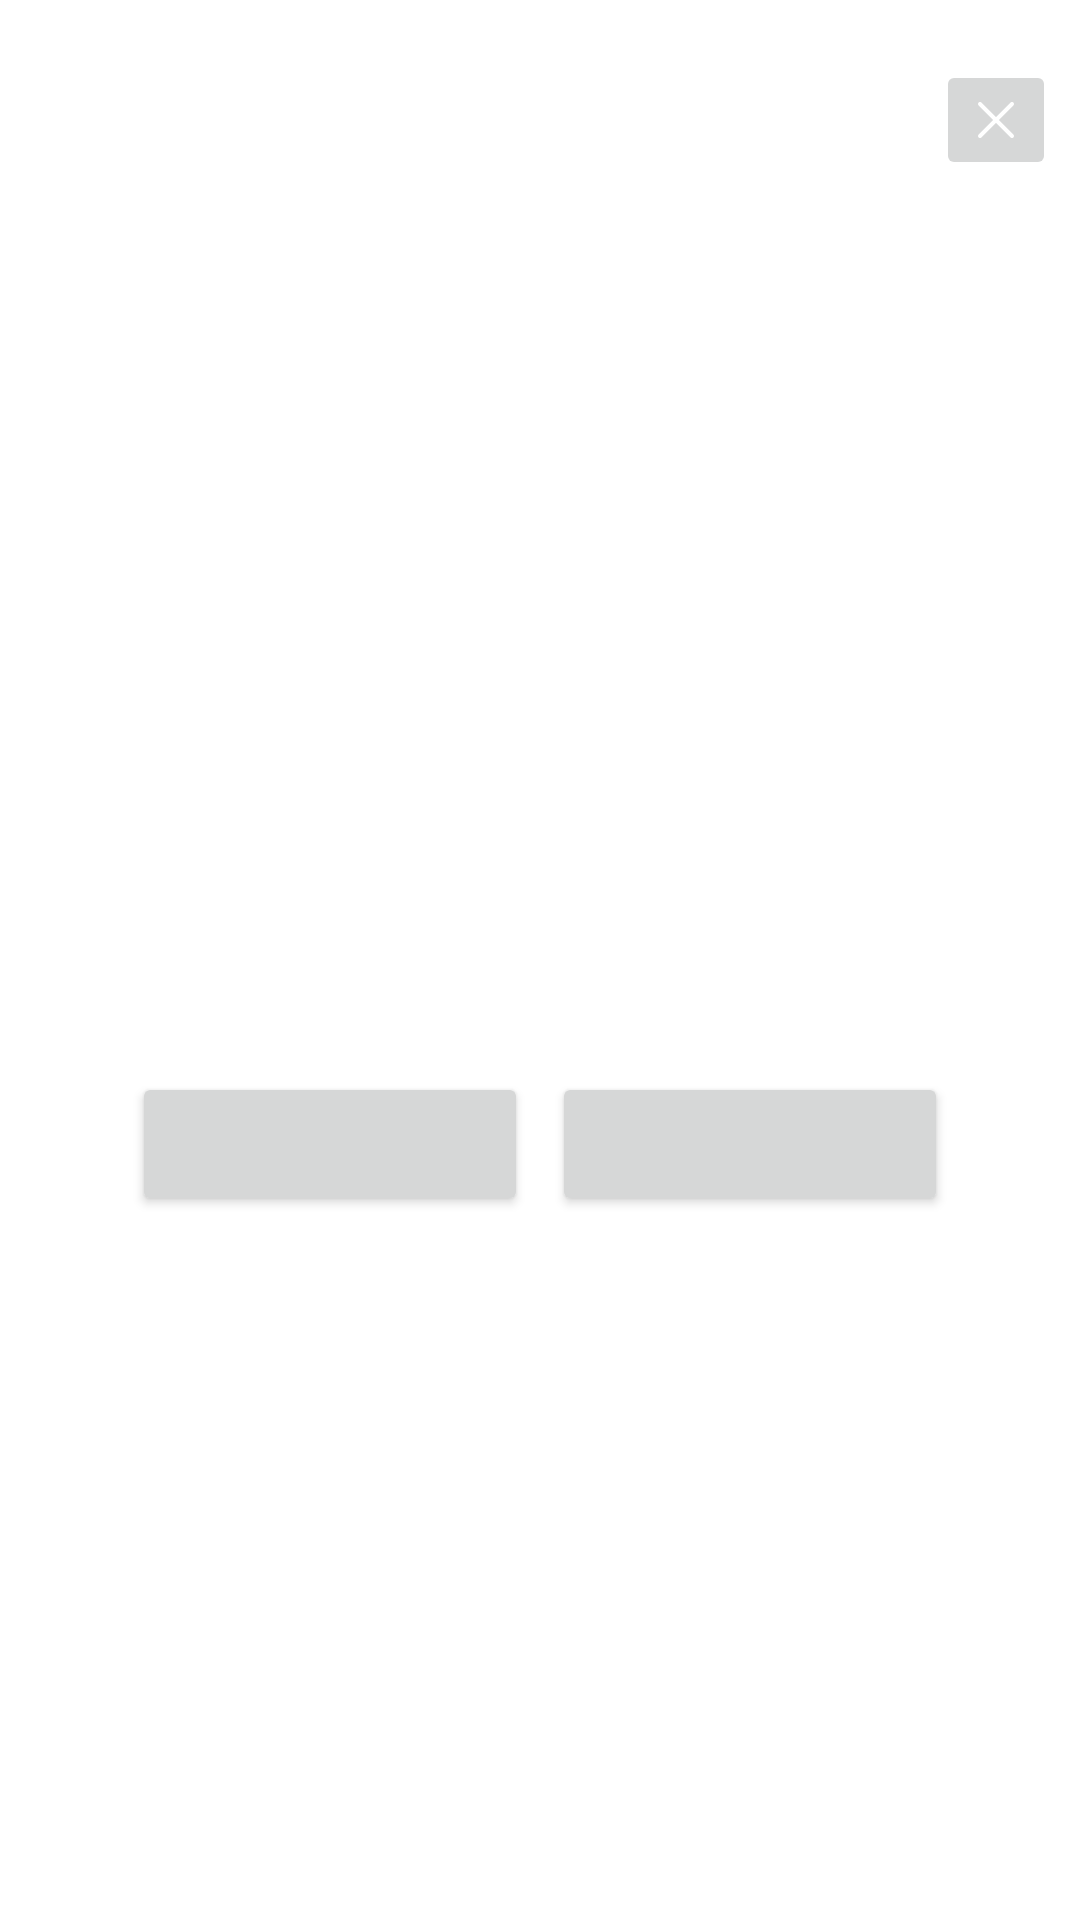

Screen size 1080w x 1920h. Icon name, then its box in pixels as (left=x1, top=y1, right=x2, bottom=y2):
close: (left=948, top=78, right=1044, bottom=162)
